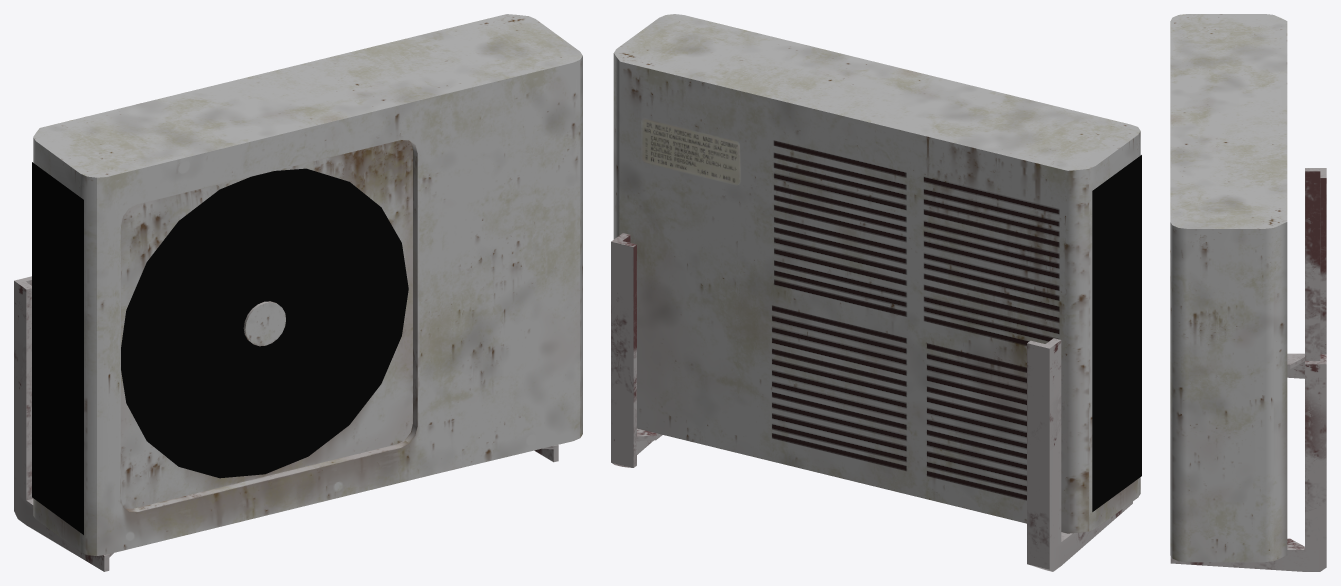
3 views of the same model, side by side, from view 1: azimuth 30°, elevation 25°; view 2: azimuth 150°, elevation 25°; view 3: azimuth 270°, elevation 25° (orthographic). The views are drawn at different scales.
Visible parts, largest first — view 1: finished asset; view 2: finished asset; view 3: finished asset.
Boxes of the visible parts, left/top/right/bottom form: finished asset: left=14, top=14, right=582, bottom=571; finished asset: left=611, top=14, right=1141, bottom=571; finished asset: left=1170, top=14, right=1326, bottom=571.
Bounding box in the file's own units: 76.96 × 59.4 × 23.7.
Materials: 6 (6 with a texture image).
